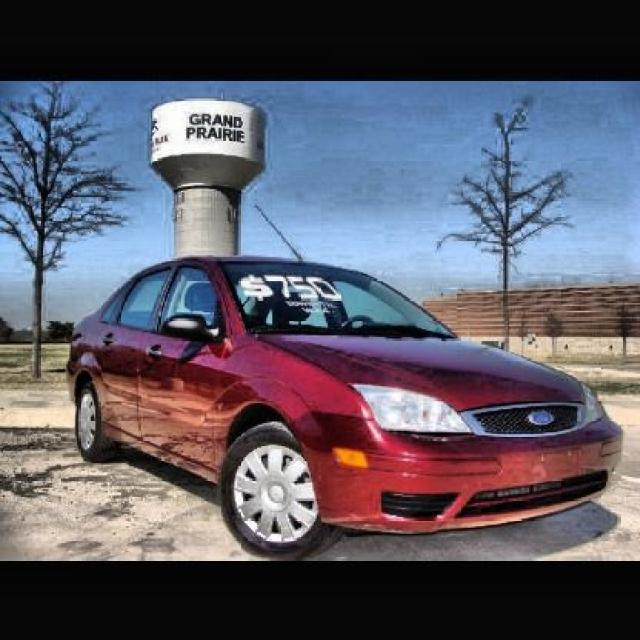maroon: (69, 254, 622, 530)
